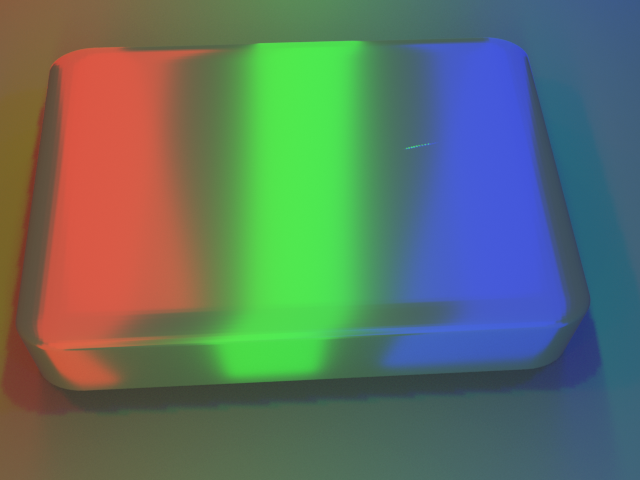scratch: (380, 105, 483, 162)
